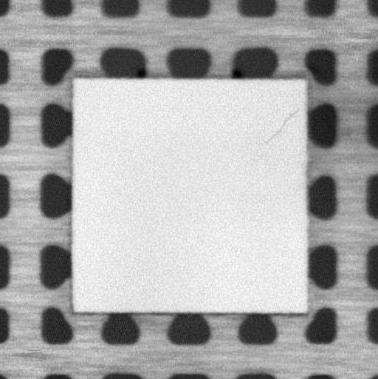DIE_CRACK: (265, 107, 302, 142)
